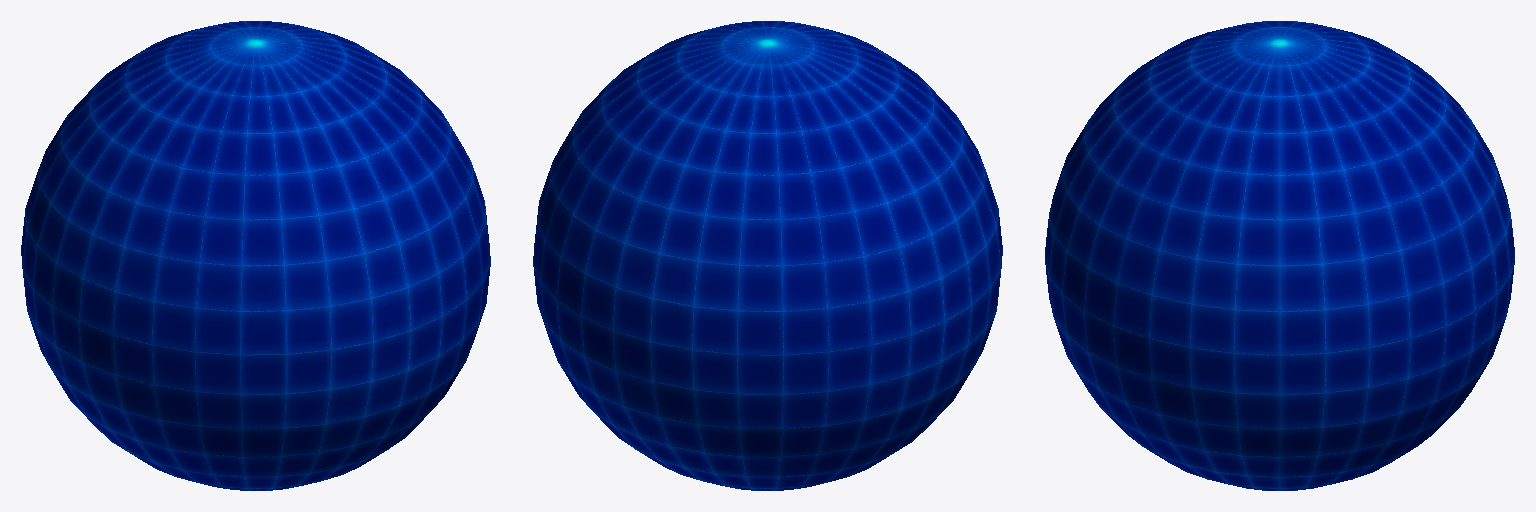
3 views of the same model, side by side, from view 1: azimuth 30°, elevation 25°; view 2: azimuth 150°, elevation 25°; view 3: azimuth 270°, elevation 25° (orthographic).
Visible parts, largest first — view 1: vr-planet; view 2: vr-planet; view 3: vr-planet.
Boxes of the visible parts, <box> form: vr-planet: <box>21,21,490,490</box>; vr-planet: <box>533,21,1002,490</box>; vr-planet: <box>1045,21,1514,490</box>.
Bounding box in the file's own units: 2 × 2 × 2.
1 materials, 1 textured.